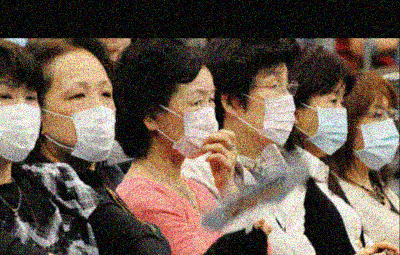with_mask: (47, 77, 117, 162), (161, 85, 220, 161), (241, 68, 297, 143), (0, 79, 42, 163), (300, 89, 350, 156), (356, 103, 400, 170)
